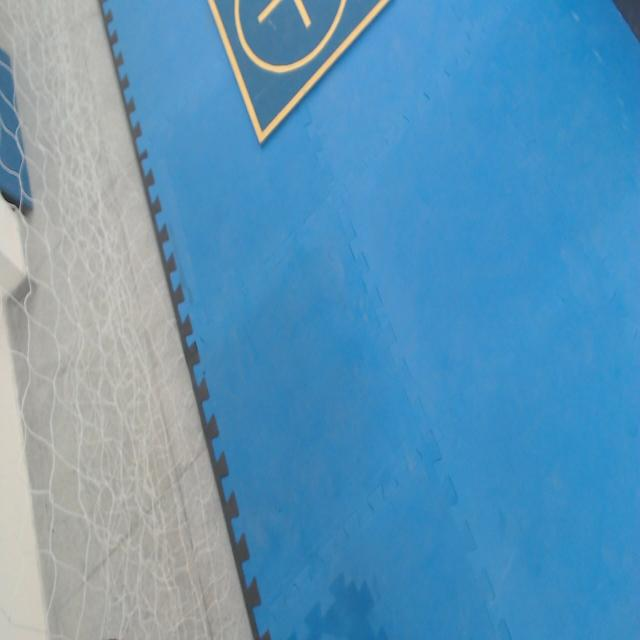base_pouso: (206, 0, 391, 142)
